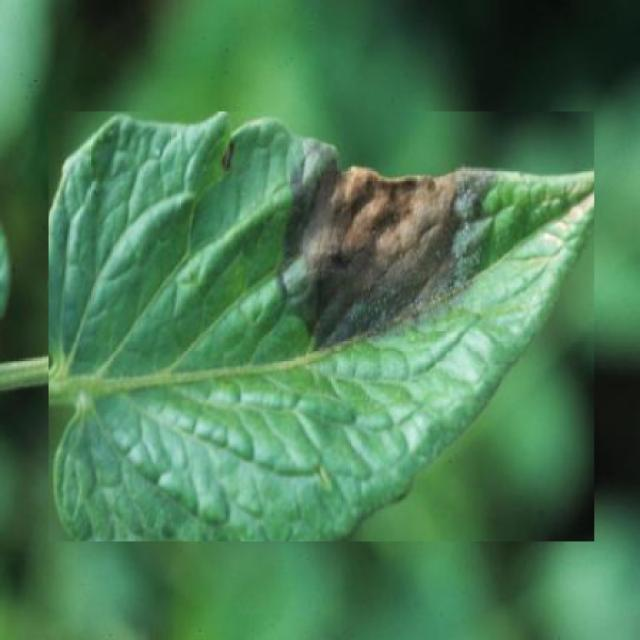Late Blight: (49, 111, 594, 542)
